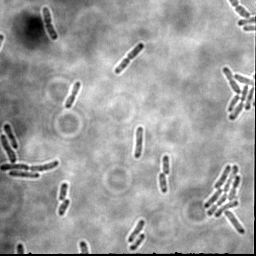Dividing: (113, 41, 146, 75), (0, 159, 60, 172), (40, 5, 59, 43), (0, 134, 17, 164), (64, 81, 82, 109)
Microcolony: (202, 163, 246, 235), (221, 65, 255, 121)
Rod: (126, 218, 147, 244), (2, 122, 20, 150), (133, 125, 145, 160), (128, 232, 146, 252), (8, 169, 40, 179), (57, 198, 72, 217), (157, 173, 170, 194), (58, 181, 70, 202), (160, 154, 171, 175)
